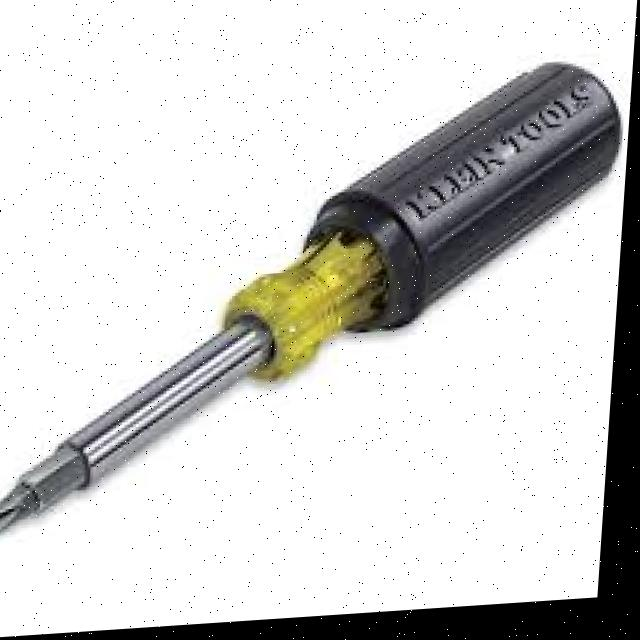Screwdriver: (0, 72, 623, 531)
